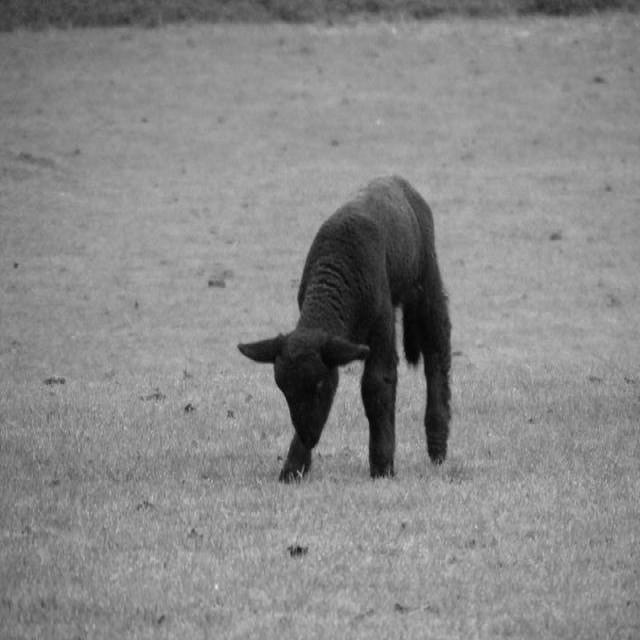Sheep: (235, 174, 450, 478)
